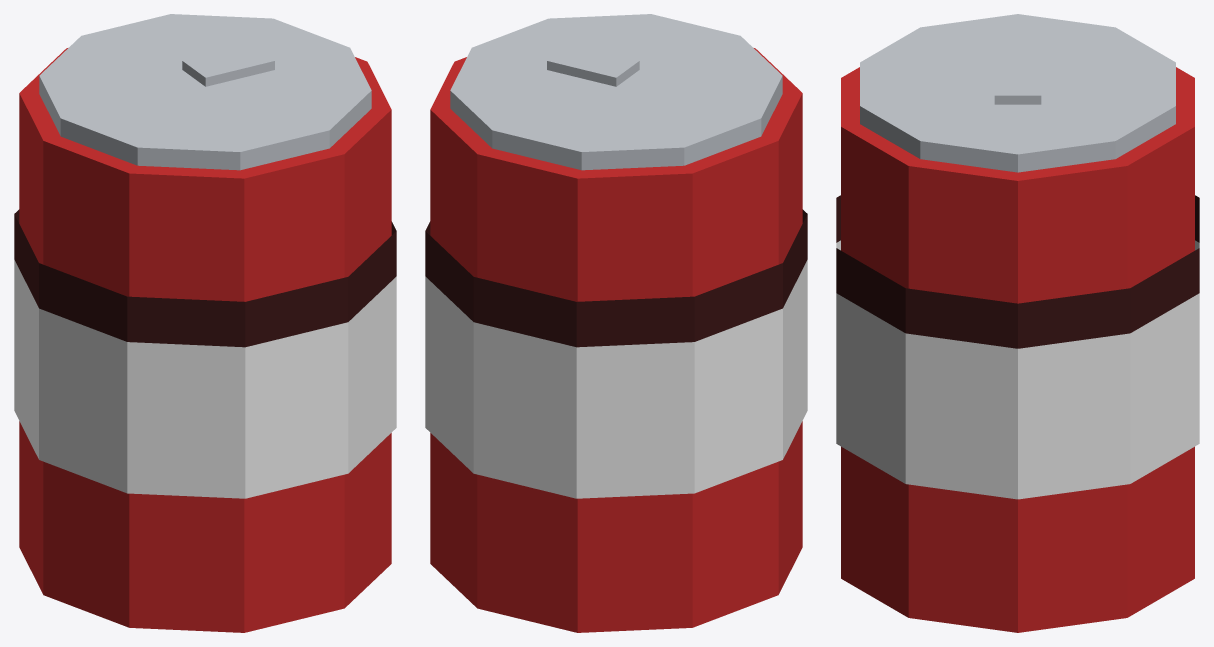
File: Food_Cola.obj
3 views of the same model, side by side, from view 1: azimuth 30°, elevation 25°; view 2: azimuth 150°, elevation 25°; view 3: azimuth 270°, elevation 25° (orthographic).
Size of the model in its own units: 1.15 by 1.62 by 1.09.
